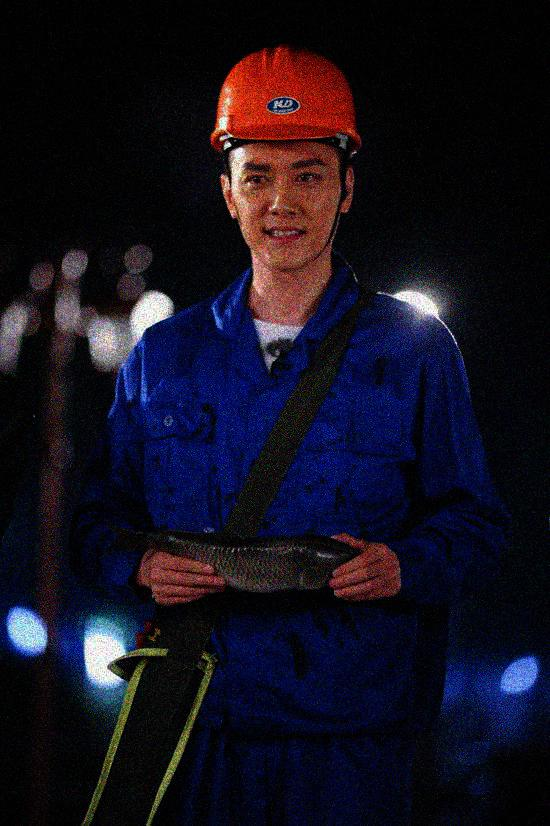helmet: (203, 39, 367, 277)
